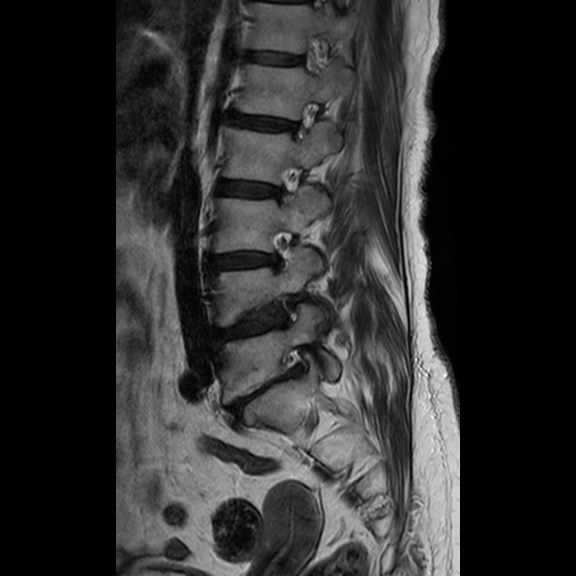RFS0: (280, 96, 327, 149), (260, 218, 300, 279), (269, 159, 308, 215)
RFS1: (271, 340, 317, 392)
RFS3: (267, 285, 309, 337)
